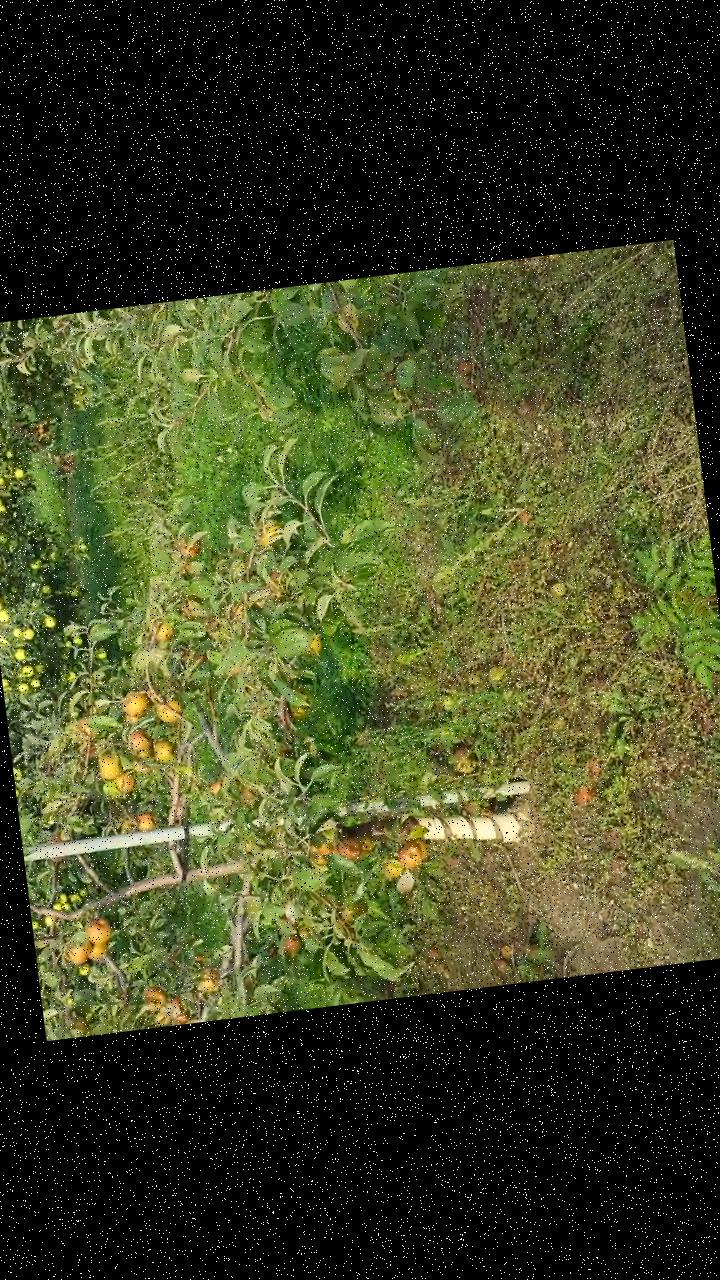Apple: (120, 690, 150, 719), (309, 840, 341, 866), (399, 834, 430, 860), (142, 983, 170, 1011), (164, 994, 190, 1024), (130, 746, 154, 778), (257, 522, 281, 552), (85, 917, 110, 945), (65, 942, 94, 966), (340, 901, 370, 924), (151, 740, 176, 766), (98, 752, 122, 779), (73, 715, 97, 741), (156, 699, 182, 722), (338, 837, 364, 860), (381, 856, 406, 879), (398, 844, 422, 867), (128, 728, 152, 750), (238, 784, 258, 808), (302, 632, 322, 656), (114, 772, 136, 792), (132, 812, 154, 832), (280, 934, 302, 954), (178, 541, 202, 558), (206, 778, 226, 798), (154, 623, 176, 640), (89, 942, 107, 961), (200, 972, 218, 990), (124, 714, 142, 728), (44, 830, 61, 844)
